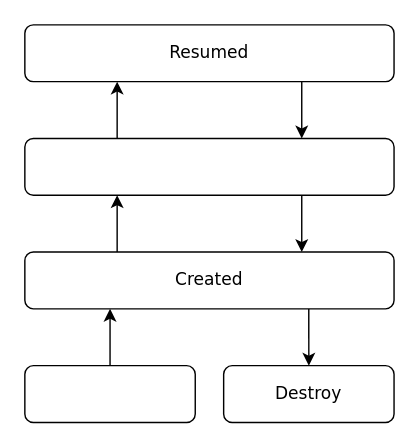
The diagram is 419 pixels wide and 447 high, and some of its shapes have lost their labels. The shapes that lost their labels are listed below. From the top down, each one's centre as x and y in pixels, then its label:
point (208, 166): Started
point (109, 393): Initialized
